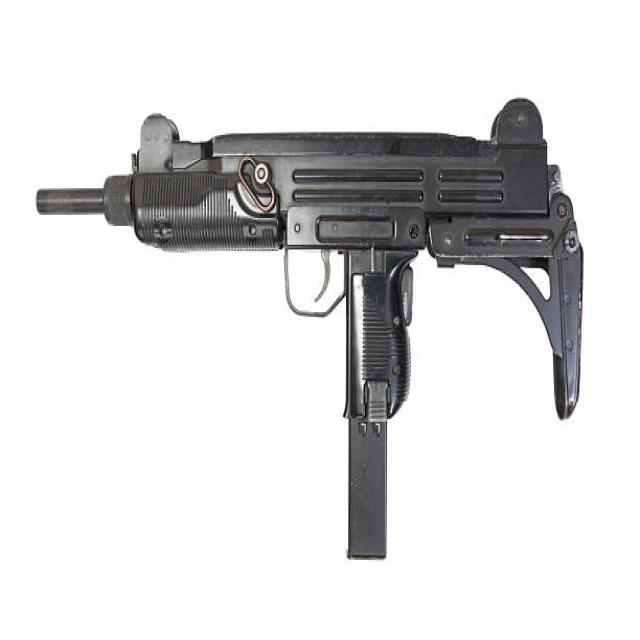SMG: (33, 99, 585, 562)
